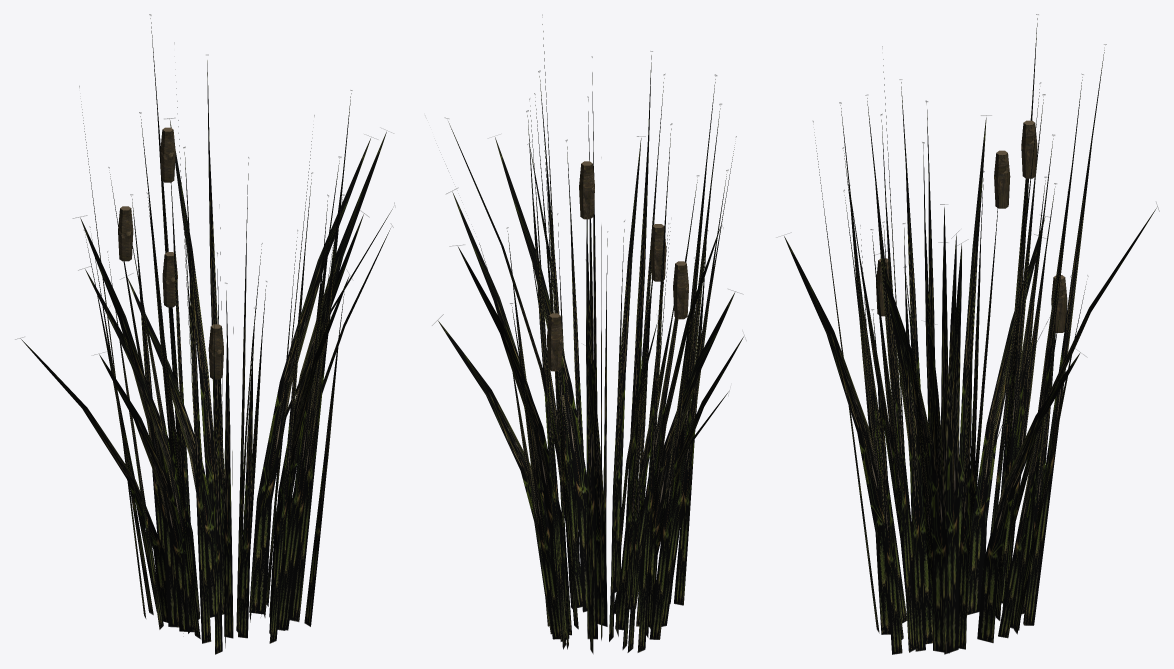
Rendered from cattail_reed_clump_01.glb.
3 renders of one model, left to right at view 1: azimuth 30°, elevation 25°; view 2: azimuth 150°, elevation 25°; view 3: azimuth 270°, elevation 25°, orthographic. The views are drawn at different scales.
Parts seen in each view (by area): view 1: cattail_reed_clump_01; view 2: cattail_reed_clump_01; view 3: cattail_reed_clump_01.
Boxes of the visible parts, x1=… form: cattail_reed_clump_01: x1=15, y1=14, x2=394, y2=654; cattail_reed_clump_01: x1=432, y1=15, x2=744, y2=653; cattail_reed_clump_01: x1=783, y1=14, x2=1159, y2=654.
Size of the model in its own units: 1.1 by 1.74 by 1.04.
Materials: 2 (2 with a texture image).
